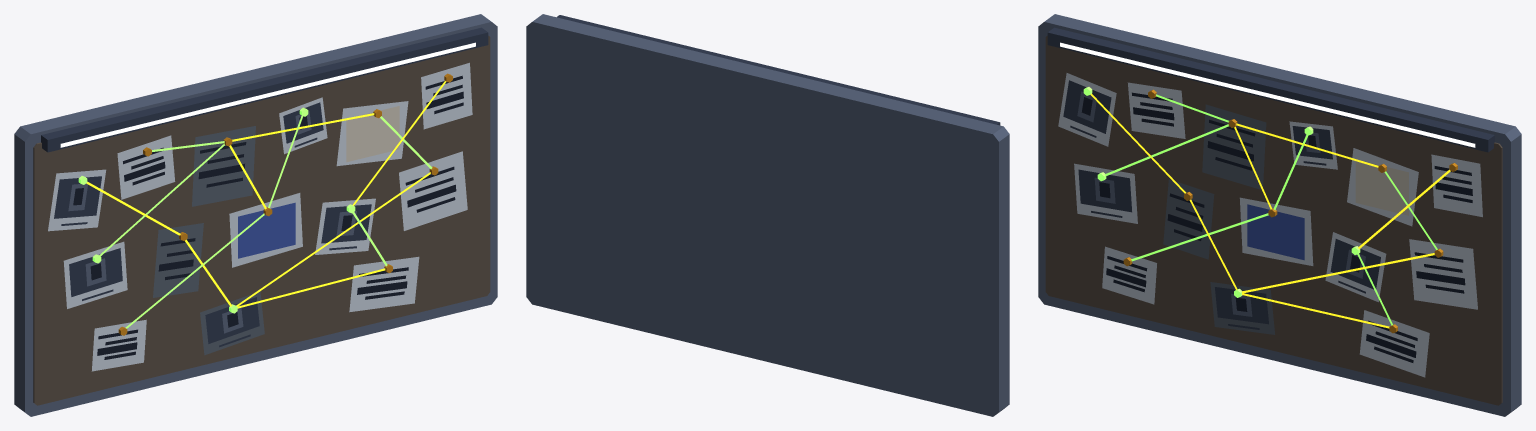
File: lab_corkboard_evidence.glb
The picture shows the model from 3 angles, left to right: view 1: azimuth 30°, elevation 25°; view 2: azimuth 150°, elevation 25°; view 3: azimuth 330°, elevation 25°; orthographic projection.
Parts seen in each view (by area): view 1: cork, dossier.002, dossier, dossier.001, dossier.010, dossier.003, evidence_thread, print.001, print, evidence_thread.001, reading_light, pushpin.001; view 2: dossier.002, dossier.001; view 3: cork, dossier.002, dossier, dossier.001, dossier.010, dossier.003, evidence_thread, print.001, print, evidence_thread.001, reading_light, pushpin.001.
Part boxes in pixels (left/top/right/bottom): cork: left=33, top=35, right=490, bottom=405; dossier.002: left=14, top=14, right=497, bottom=416; dossier: left=48, top=62, right=472, bottom=371; dossier.001: left=41, top=27, right=488, bottom=347; dossier.010: left=153, top=126, right=264, bottom=355; dossier.003: left=73, top=75, right=463, bottom=359; evidence_thread: left=86, top=81, right=446, bottom=308; print.001: left=238, top=202, right=295, bottom=258; print: left=346, top=106, right=399, bottom=162; evidence_thread.001: left=78, top=107, right=432, bottom=328; reading_light: left=60, top=42, right=475, bottom=147; pushpin.001: left=118, top=73, right=452, bottom=335; dossier.002: left=526, top=14, right=1009, bottom=416; dossier.001: left=557, top=15, right=1000, bottom=125; cork: left=1045, top=35, right=1502, bottom=405; dossier.002: left=1038, top=14, right=1521, bottom=416; dossier: left=1058, top=73, right=1482, bottom=377; dossier.001: left=1047, top=27, right=1494, bottom=329; dossier.010: left=1163, top=104, right=1274, bottom=334; dossier.003: left=1081, top=92, right=1472, bottom=362; evidence_thread: left=1090, top=93, right=1450, bottom=328; print.001: left=1247, top=204, right=1304, bottom=260; print: left=1355, top=161, right=1408, bottom=215; evidence_thread.001: left=1083, top=87, right=1437, bottom=325; reading_light: left=1060, top=42, right=1475, bottom=147; pushpin.001: left=1123, top=89, right=1457, bottom=333.
Bounding box in the file's own units: 2.8 × 1.6 × 0.18.
